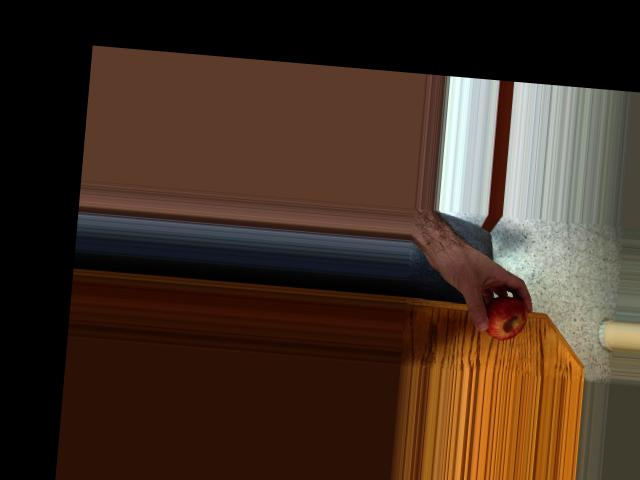apple: (474, 292, 532, 341)
